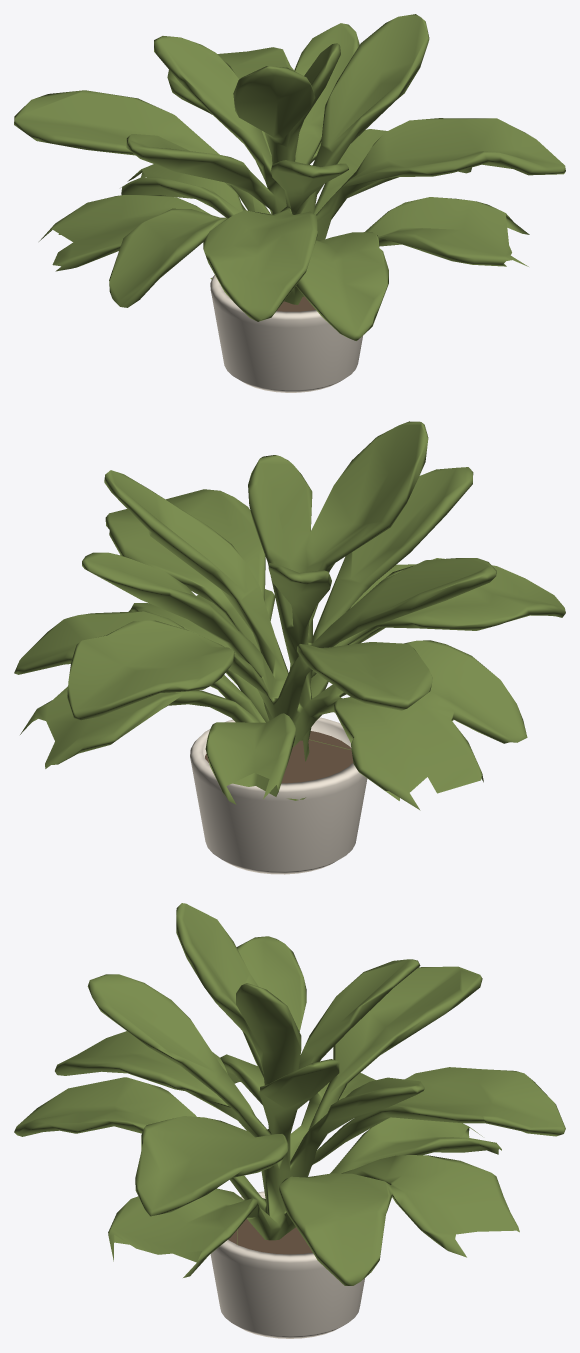
Rendered from suite_plant_small.glb.
3 views of the same model, one above another, from view 1: azimuth 30°, elevation 25°; view 2: azimuth 150°, elevation 25°; view 3: azimuth 270°, elevation 25° (orthographic). The views are drawn at different scales.
Bounding box in the file's own units: 0.6822 × 0.56 × 0.7509.
